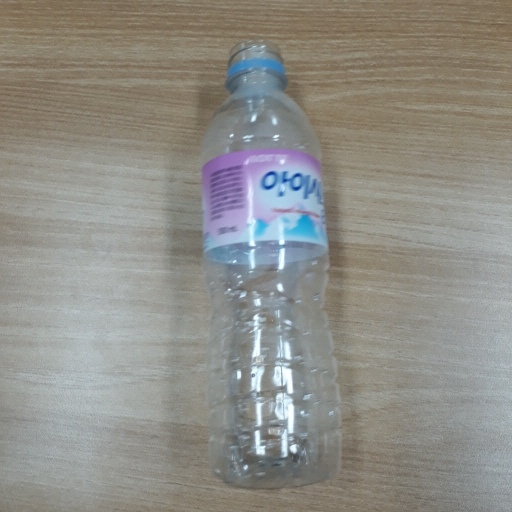Plastic_0: (195, 39, 348, 488)
